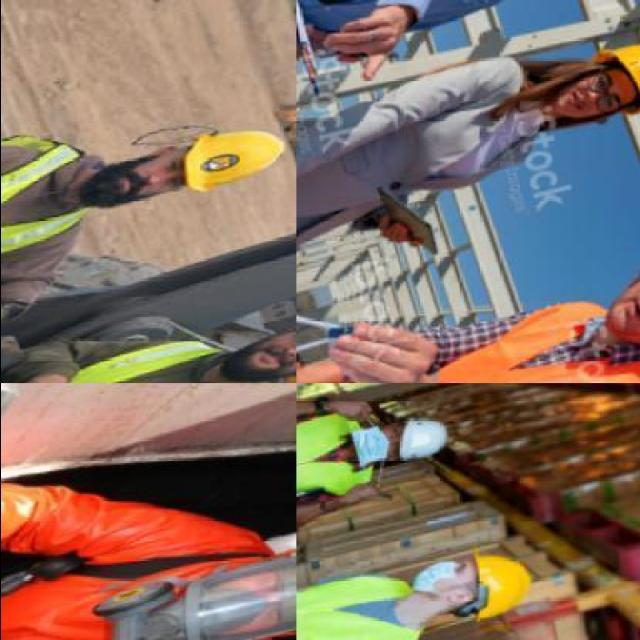helmet: (176, 116, 286, 200), (466, 548, 532, 630), (598, 31, 640, 134), (396, 406, 454, 466)
jacket: (297, 554, 424, 640), (292, 406, 379, 504)
